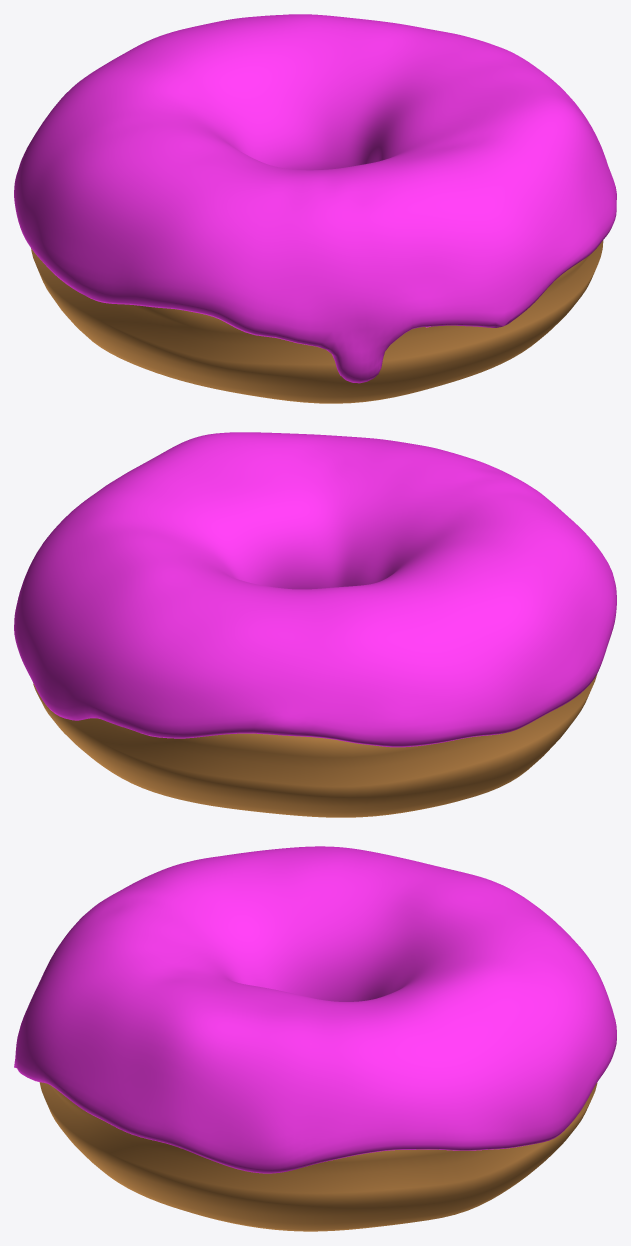
The model's file is donut (1).fbx.
3 renders of one model, top to bottom at view 1: azimuth 30°, elevation 25°; view 2: azimuth 150°, elevation 25°; view 3: azimuth 270°, elevation 25°, orthographic. The views are drawn at different scales.
Parts seen in each view (by area): view 1: icing, donut; view 2: icing, donut; view 3: icing, donut.
Part boxes in pixels (x1=…): icing: x1=14, y1=14, x2=616, y2=383; donut: x1=31, y1=240, x2=603, y2=403; icing: x1=14, y1=432, x2=616, y2=747; donut: x1=33, y1=674, x2=597, y2=817; icing: x1=14, y1=846, x2=616, y2=1173; donut: x1=39, y1=1082, x2=597, y2=1231.
Bounding box in the file's own units: 10.39 × 4.09 × 10.58.
